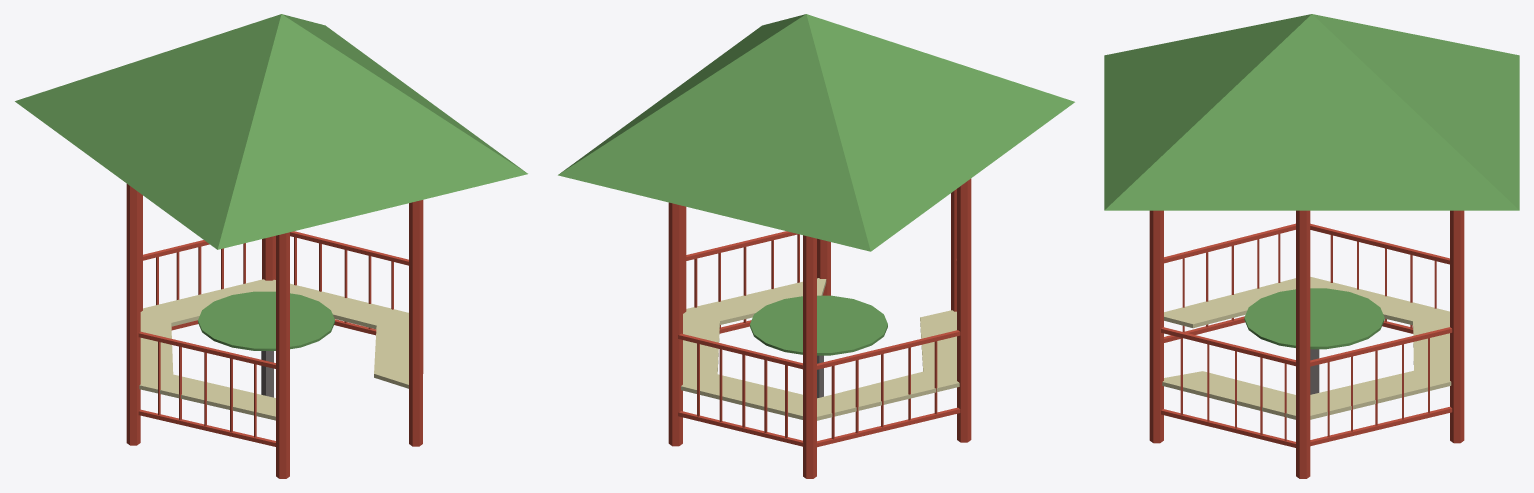
The model's file is Gazebo.gltf.
3 views of the same model, side by side, from view 1: azimuth 30°, elevation 25°; view 2: azimuth 150°, elevation 25°; view 3: azimuth 270°, elevation 25° (orthographic). The views are drawn at different scales.
Visible parts, largest first — view 1: SM_Alcove_01; view 2: SM_Alcove_01; view 3: SM_Alcove_01.
Boxes of the visible parts, x1=… form: SM_Alcove_01: x1=15, y1=14, x2=527, y2=478; SM_Alcove_01: x1=558, y1=14, x2=1074, y2=478; SM_Alcove_01: x1=1104, y1=14, x2=1519, y2=478.
Bounding box in the file's own units: 2.45 × 2.93 × 2.77.
Materials: 1 (1 with a texture image).
